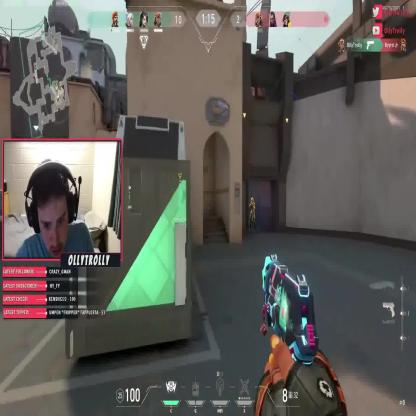enemy: (248, 197, 256, 235)
enemy_head: (251, 197, 254, 205)
